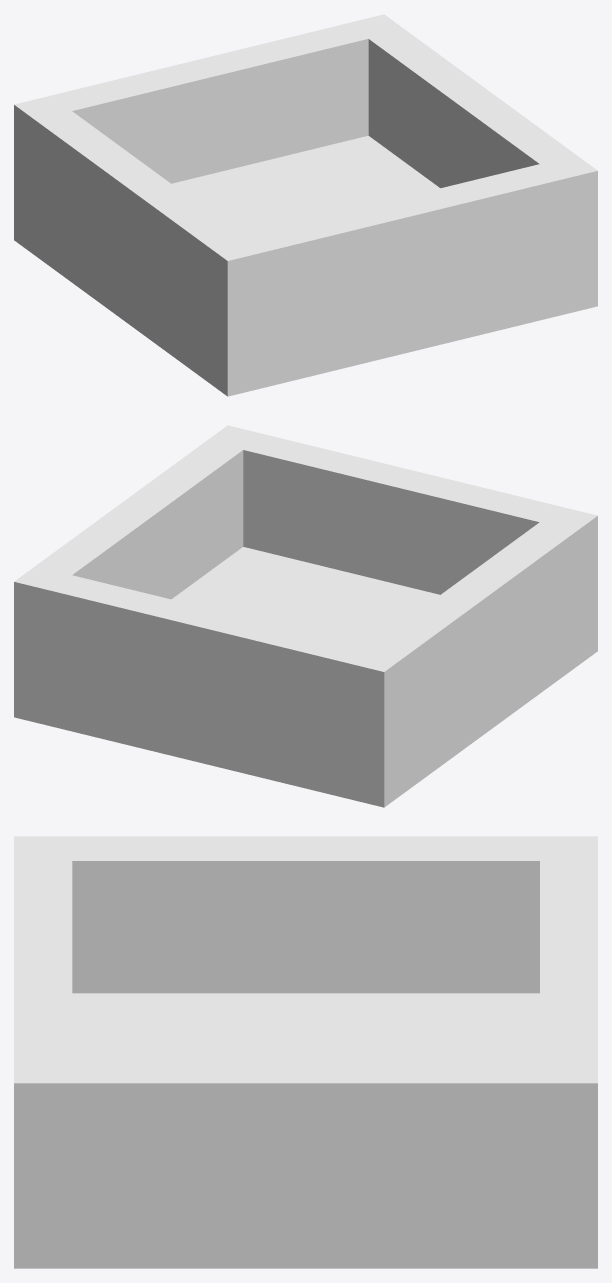
File: WhiteRoof_4Edges_Small.glb
The picture shows the model from 3 angles, top to bottom: view 1: azimuth 30°, elevation 25°; view 2: azimuth 150°, elevation 25°; view 3: azimuth 270°, elevation 25°; orthographic projection. The views are drawn at different scales.
Visible parts, largest first — view 1: roof_flat_4Edges_small_white; view 2: roof_flat_4Edges_small_white; view 3: roof_flat_4Edges_small_white.
Part boxes in pixels (left/top/right/bottom): roof_flat_4Edges_small_white: left=14, top=14, right=597, bottom=396; roof_flat_4Edges_small_white: left=14, top=425, right=597, bottom=807; roof_flat_4Edges_small_white: left=14, top=836, right=597, bottom=1268.
Size of what is drawn, in the model's own units: 2 by 0.7 by 2.
1 material, 1 textured.
